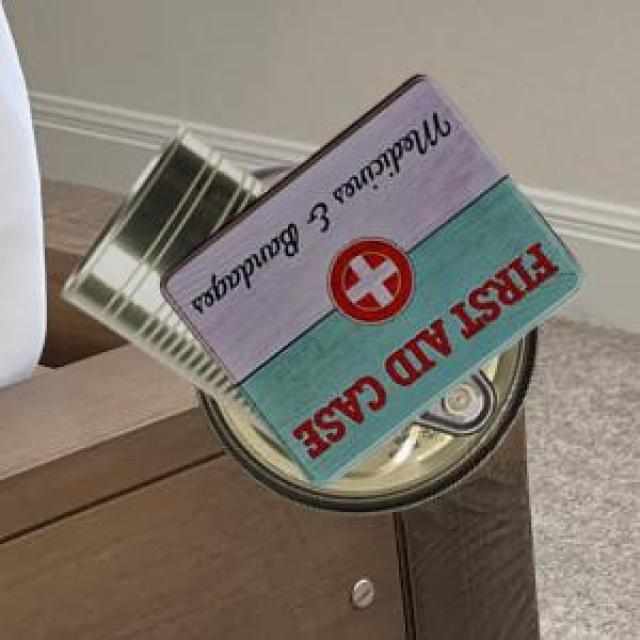Can: (193, 217, 535, 511), (61, 121, 273, 436)
